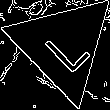L_NW: (35, 17, 91, 75)
